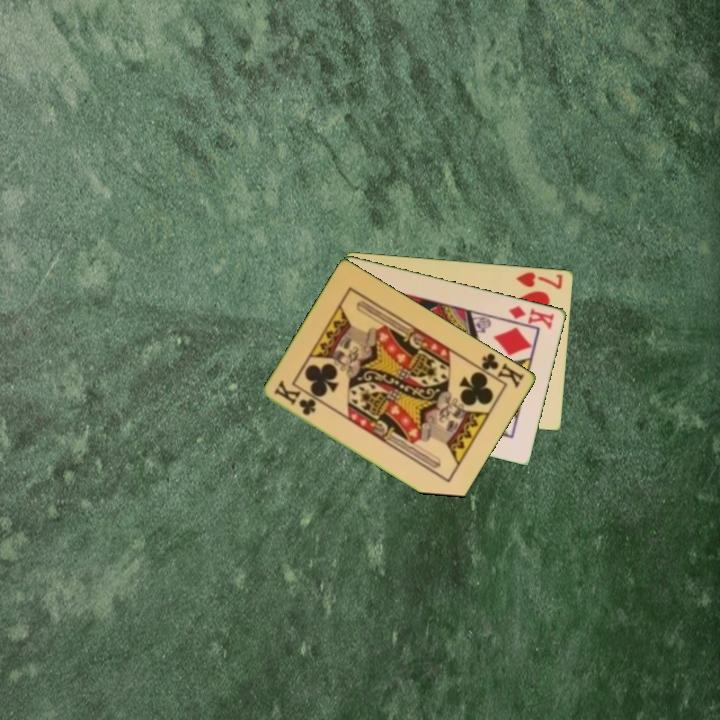7h: (513, 268, 566, 292)
Kc: (472, 349, 528, 391), (271, 377, 319, 418)
Kd: (505, 302, 557, 332)
